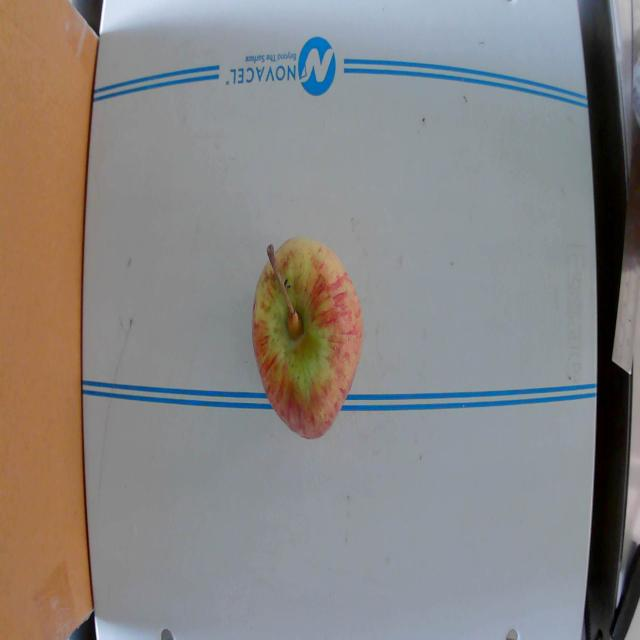apple: (253, 232, 362, 438)
